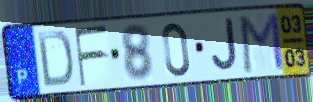0: (160, 21, 191, 79)
8: (119, 21, 157, 84)
D: (35, 29, 75, 89)
F: (72, 23, 110, 90)
J: (209, 16, 240, 74)
M: (239, 10, 286, 76)
